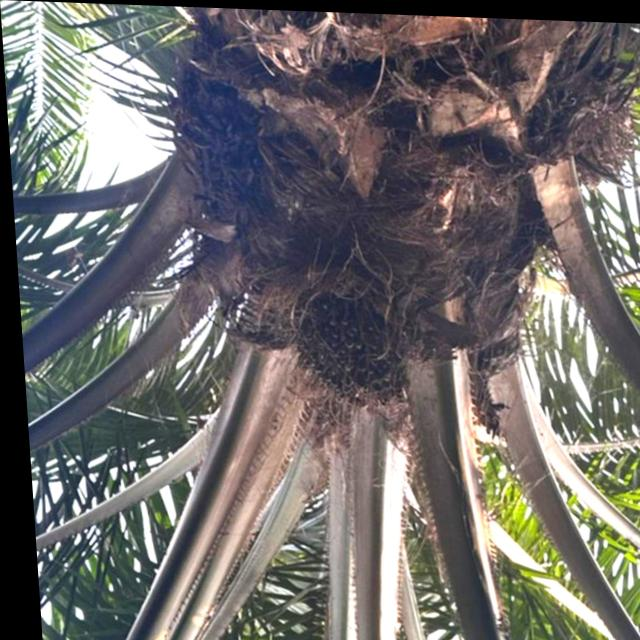unripe: (277, 276, 410, 407)
